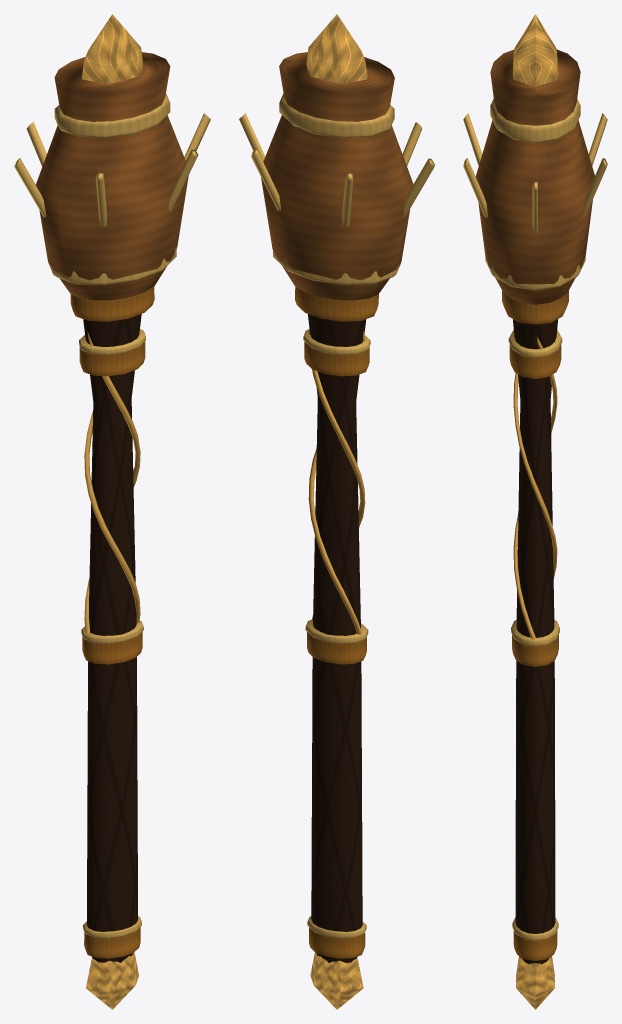
The model's file is sand_rod.glb.
3 renders of one model, left to right at view 1: azimuth 30°, elevation 25°; view 2: azimuth 150°, elevation 25°; view 3: azimuth 270°, elevation 25°, orthographic.
Visible parts, largest first — view 1: Leather wrapped grip, Carved desert urn crown, Engraved metal collar (×4), Urn gold rim (×2), Amber sand focus, Spiral elemental shaft inlay (×2), Inset elemental pommel, Polished collar edge (×3), Carved desert sun ray (×3); view 2: Leather wrapped grip, Carved desert urn crown, Engraved metal collar (×4), Urn gold rim (×2), Amber sand focus, Spiral elemental shaft inlay (×2), Inset elemental pommel, Polished collar edge (×3), Carved desert sun ray (×3); view 3: Carved desert urn crown, Leather wrapped grip, Engraved metal collar (×4), Amber sand focus, Urn gold rim (×2), Spiral elemental shaft inlay (×2), Carved desert sun ray (×4), Polished collar edge (×3), Inset elemental pommel.
Boxes of the visible parts, bbox=[...] form: Leather wrapped grip: bbox=[83, 314, 141, 962]; Carved desert urn crown: bbox=[36, 52, 188, 300]; Engraved metal collar (×4): bbox=[70, 286, 154, 958]; Urn gold rim (×2): bbox=[48, 93, 176, 285]; Amber sand focus: bbox=[81, 14, 143, 83]; Spiral elemental shaft inlay (×2): bbox=[84, 332, 140, 632]; Inset elemental pommel: bbox=[86, 952, 138, 1009]; Polished collar edge (×3): bbox=[79, 329, 145, 938]; Carved desert sun ray (×3): bbox=[14, 149, 198, 227]; Leather wrapped grip: bbox=[307, 314, 366, 962]; Carved desert urn crown: bbox=[261, 52, 413, 300]; Engraved metal collar (×4): bbox=[295, 286, 378, 958]; Urn gold rim (×2): bbox=[273, 93, 400, 285]; Amber sand focus: bbox=[306, 14, 367, 83]; Spiral elemental shaft inlay (×2): bbox=[308, 328, 365, 634]; Inset elemental pommel: bbox=[310, 952, 363, 1009]; Polished collar edge (×3): bbox=[303, 329, 370, 938]; Carved desert sun ray (×3): bbox=[251, 148, 434, 227]; Carved desert urn crown: bbox=[475, 49, 594, 304]; Leather wrapped grip: bbox=[513, 319, 557, 964]; Engraved metal collar (×4): bbox=[502, 290, 568, 960]; Amber sand focus: bbox=[513, 14, 557, 86]; Urn gold rim (×2): bbox=[485, 99, 585, 290]; Spiral elemental shaft inlay (×2): bbox=[513, 337, 557, 639]; Carved desert sun ray (×4): bbox=[463, 113, 607, 217]; Polished collar edge (×3): bbox=[508, 330, 562, 940]; Inset elemental pommel: bbox=[516, 956, 554, 1009].
Bounding box in the file's own units: 72 × 350 × 46.
Materials: 6 (6 with a texture image).
